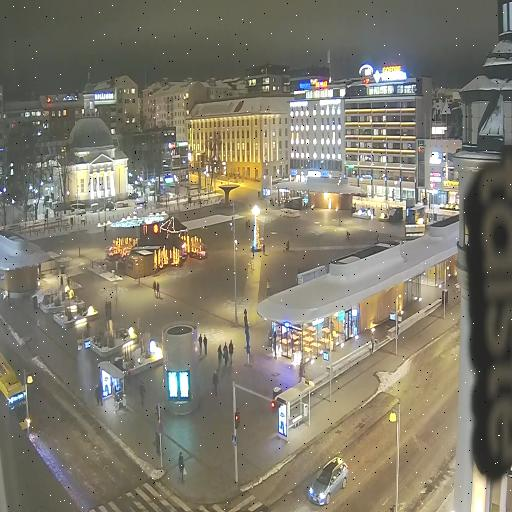Bus: (0, 353, 31, 431)
Car: (308, 457, 349, 505)
